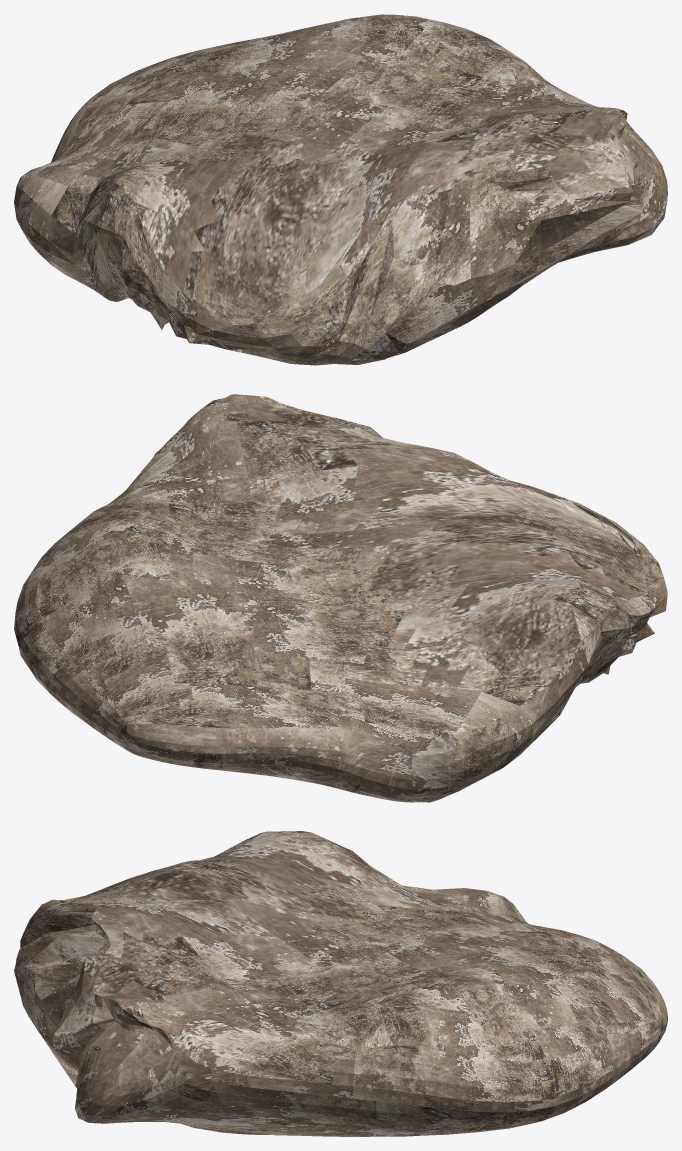
The model's file is Roca2.fbx.
3 renders of one model, top to bottom at view 1: azimuth 30°, elevation 25°; view 2: azimuth 150°, elevation 25°; view 3: azimuth 270°, elevation 25°, orthographic. The views are drawn at different scales.
Visible parts, largest first — view 1: Escombro6; view 2: Escombro6; view 3: Escombro6.
Boxes of the visible parts, x1,y1,x2,y2 form: Escombro6: [14, 14, 667, 365]; Escombro6: [14, 394, 667, 802]; Escombro6: [14, 831, 667, 1136].
Size of the model in its own units: 368 by 132 by 415.
